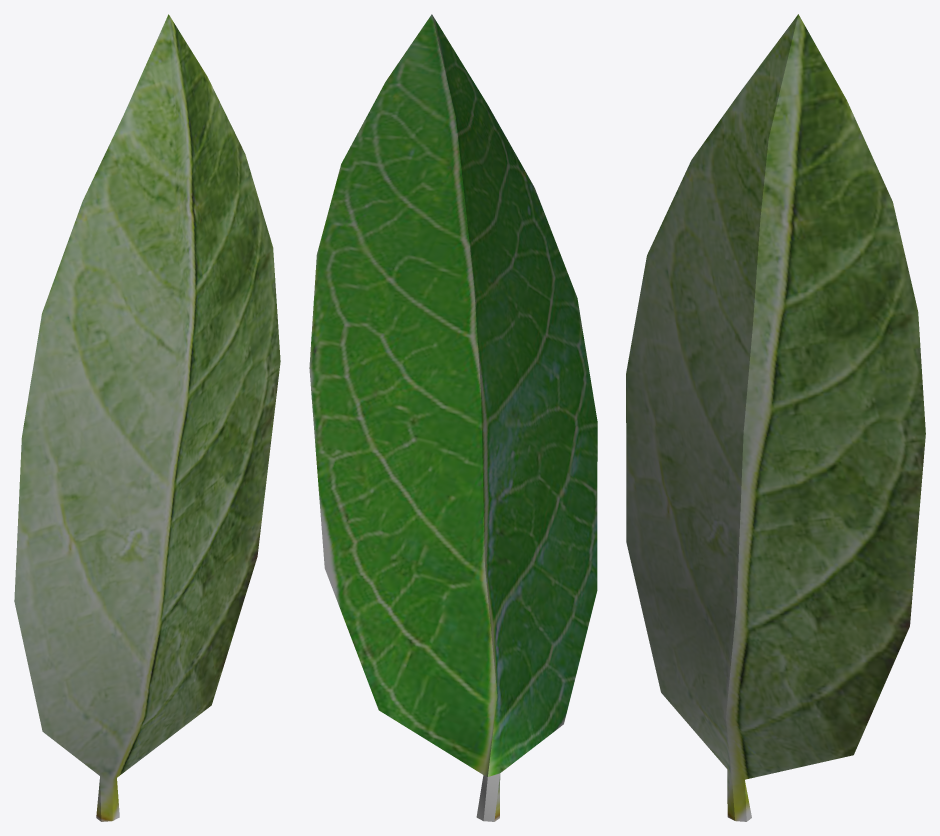
File: leaf.dae
3 views of the same model, side by side, from view 1: azimuth 30°, elevation 25°; view 2: azimuth 150°, elevation 25°; view 3: azimuth 330°, elevation 25° (orthographic). The views are drawn at different scales.
Parts seen in each view (by area): view 1: leaf-002; view 2: leaf-002; view 3: leaf-002.
Part boxes in pixels (x1,y1,x2,y2): leaf-002: (14,14,280,821); leaf-002: (309,14,597,821); leaf-002: (626,14,925,821).
Bounding box in the file's own units: 0.1439 × 0.3919 × 0.033.
Materials: 1 (1 with a texture image).
